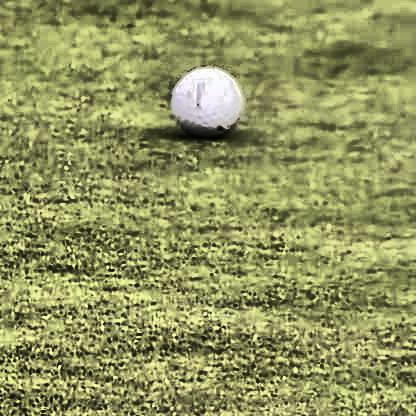golfball: (172, 62, 242, 133)
